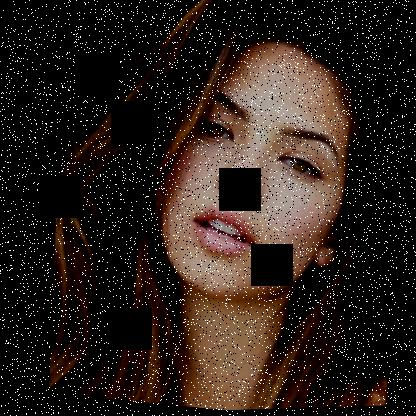Female: (131, 28, 371, 315)
